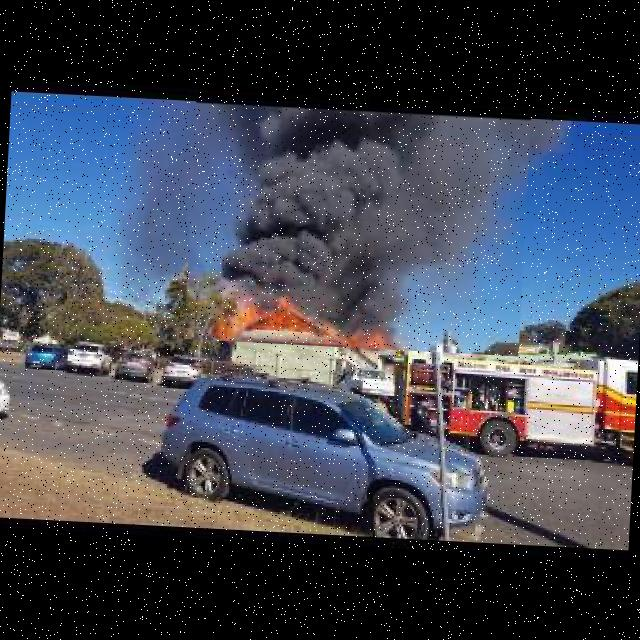fire: (184, 86, 532, 356)
